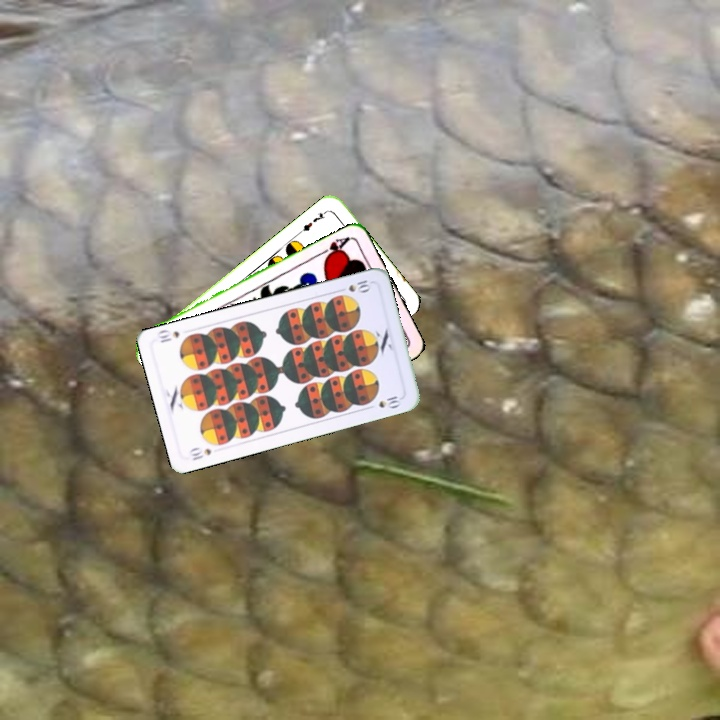E7: (296, 206, 330, 236)
HA: (316, 232, 353, 263)
S10: (334, 276, 374, 295), (185, 443, 214, 463)
